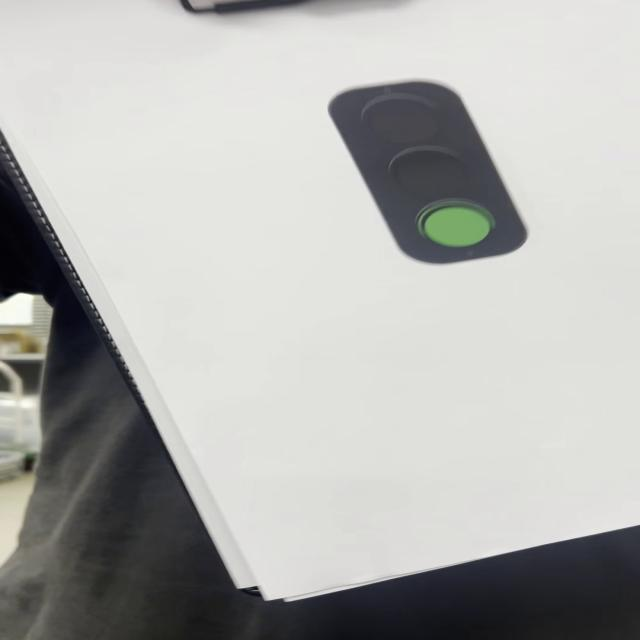green: (327, 80, 531, 268)
